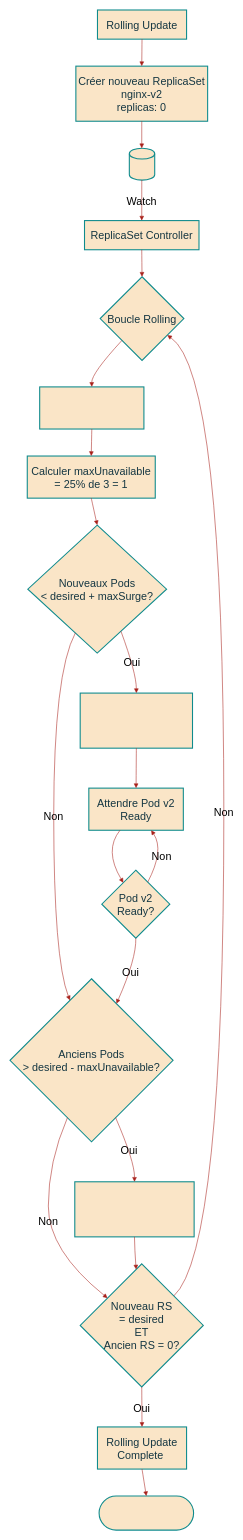
Some shapes in this 243 by 1540 pixel diagram are drawn without their labels. The centre of each missing label's shape, as x and y in pixels:
"Calculer maxSurge = 25% de 3 = 1" belongs at (x=91, y=407).
"etcd" belongs at (x=142, y=163).
"Scale DOWN ancien RS -1 Pod v1 nginx:1.20" belongs at (x=134, y=1209).
"Scale UP nouveau RS +1 Pod v2 nginx:1.21" belongs at (x=136, y=720).
"Système stable 3 Pods v2 Running" belongs at (x=146, y=1512).
